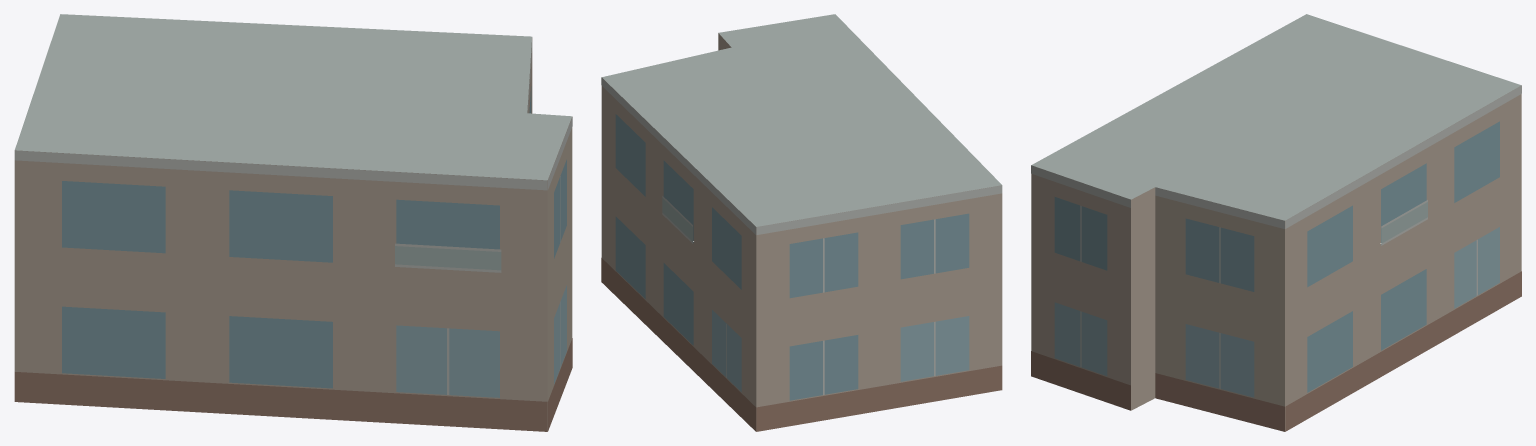
Rendered from survey-upis-32593034.glb.
3 views of the same model, side by side, from view 1: azimuth 30°, elevation 25°; view 2: azimuth 150°, elevation 25°; view 3: azimuth 270°, elevation 25° (orthographic). The views are drawn at different scales.
Visible parts, largest first — view 1: survey-upis-32593034.tmp; view 2: survey-upis-32593034.tmp; view 3: survey-upis-32593034.tmp.
Boxes of the visible parts, x1=… form: survey-upis-32593034.tmp: x1=14, y1=14, x2=572, y2=431; survey-upis-32593034.tmp: x1=601, y1=14, x2=1002, y2=431; survey-upis-32593034.tmp: x1=1031, y1=14, x2=1521, y2=431.
Size of the model in its own units: 12.82 by 6.1 by 12.86.
